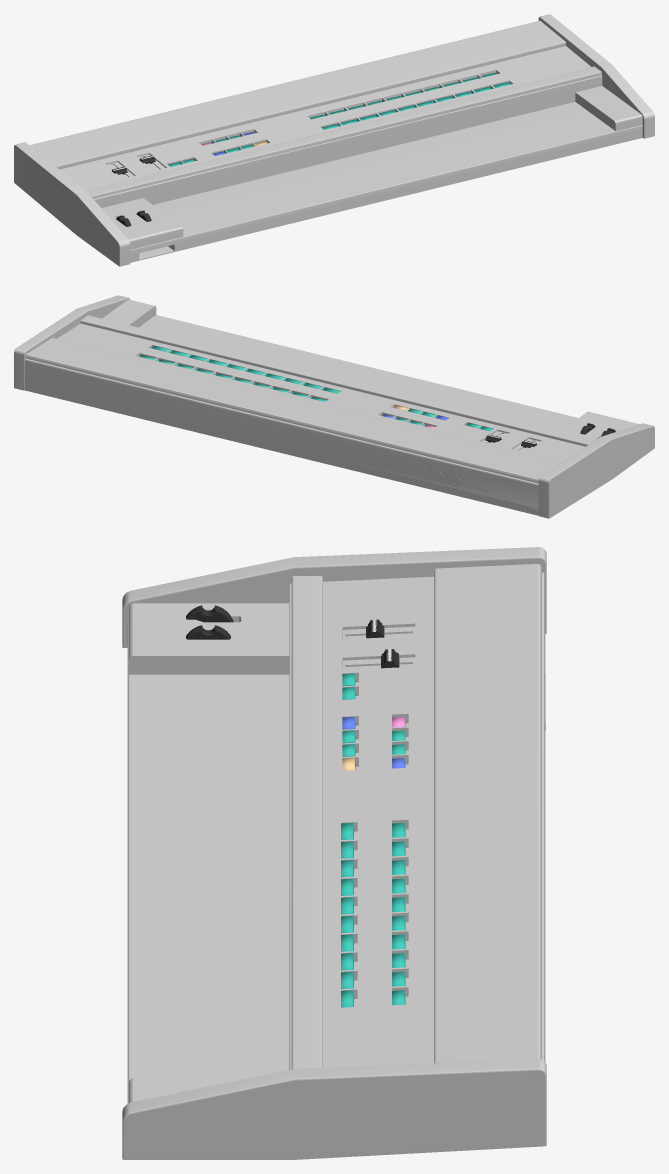
The model's file is Electric_piano.fbx.
3 renders of one model, top to bottom at view 1: azimuth 30°, elevation 25°; view 2: azimuth 150°, elevation 25°; view 3: azimuth 270°, elevation 25°, orthographic. The views are drawn at different scales.
Visible parts, largest first — view 1: body, buttons; view 2: body, buttons; view 3: body, buttons.
Part boxes in pixels (x1=…): body: x1=14, y1=14, x2=654, y2=266; buttons: x1=112, y1=73, x2=510, y2=226; body: x1=14, y1=295, x2=654, y2=518; buttons: x1=139, y1=346, x2=615, y2=447; body: x1=122, y1=547, x2=546, y2=1159; buttons: x1=186, y1=605, x2=405, y2=1007.
Bounding box in the file's own units: 287 × 23.24 × 98.39.
